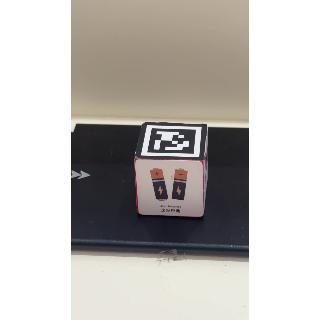Used_Battery: (136, 159, 206, 219)
